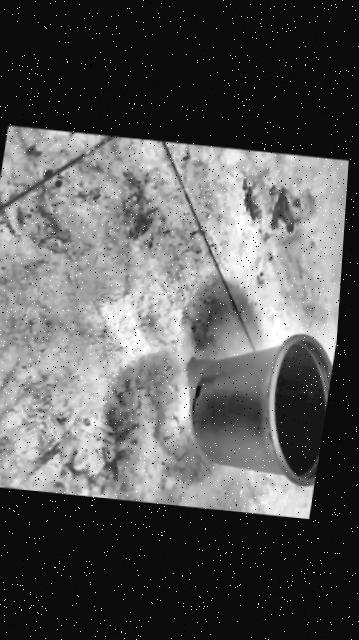pot: (180, 324, 338, 487)
